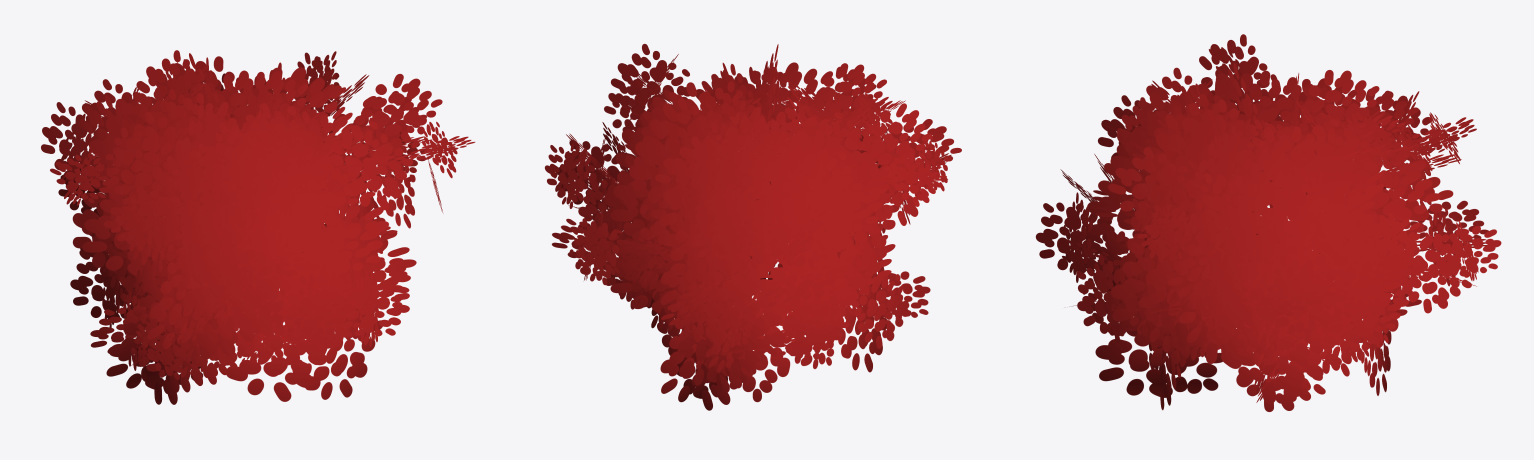
File: Bush red.glb
3 views of the same model, side by side, from view 1: azimuth 30°, elevation 25°; view 2: azimuth 150°, elevation 25°; view 3: azimuth 270°, elevation 25° (orthographic). The views are drawn at different scales.
Visible parts, largest first — view 1: Bush_Common; view 2: Bush_Common; view 3: Bush_Common.
Boxes of the visible parts, <box> form: Bush_Common: <box>41,50,475,404</box>; Bush_Common: <box>544,44,961,410</box>; Bush_Common: <box>1035,34,1501,411</box>.
Size of the model in its own units: 4.23 by 3.55 by 4.47.
Materials: 1 (1 with a texture image).
